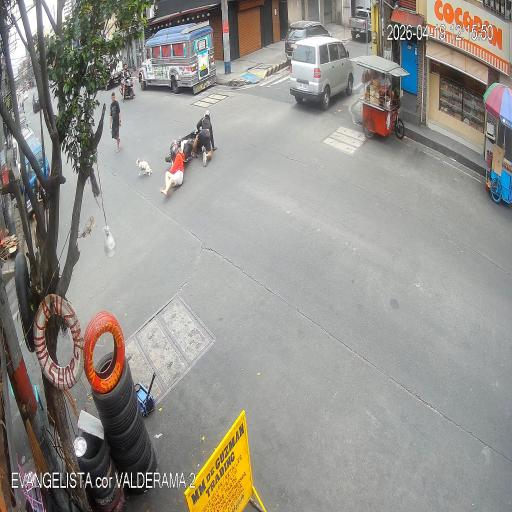Car: (292, 38, 354, 104)
Motor: (164, 124, 214, 169)
